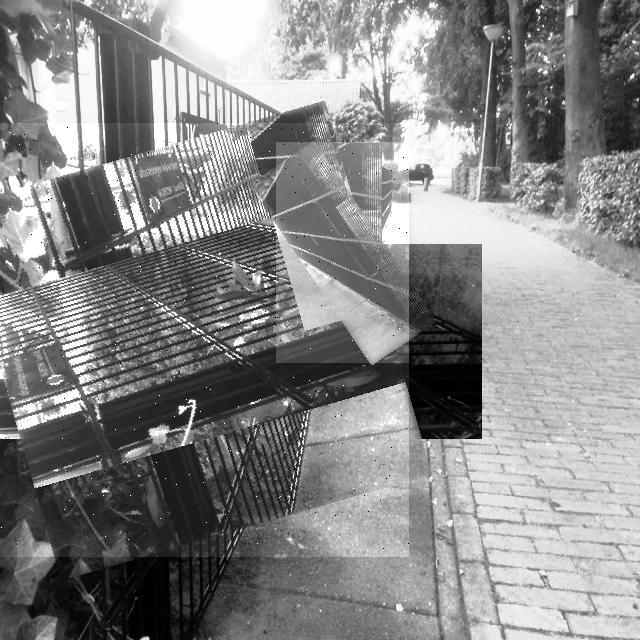fences: (0, 123, 409, 557), (276, 142, 409, 363)
